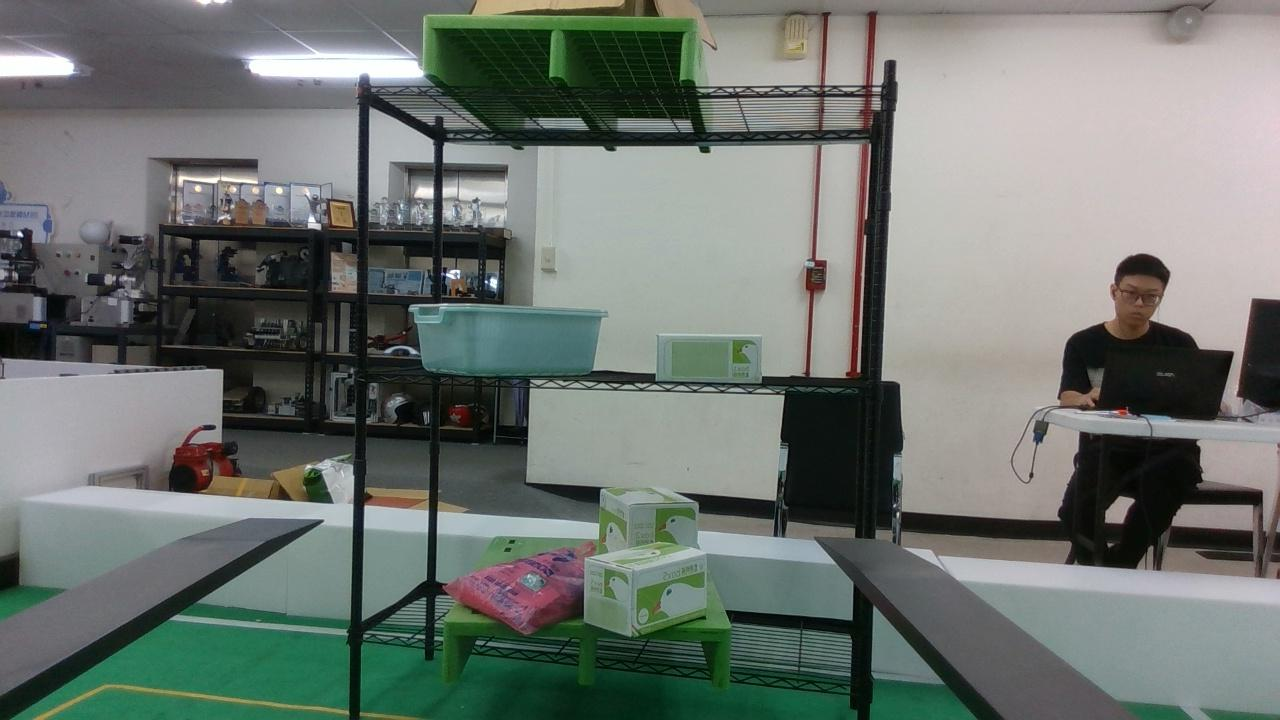Pallet: (442, 620, 732, 687), (421, 16, 698, 83)
